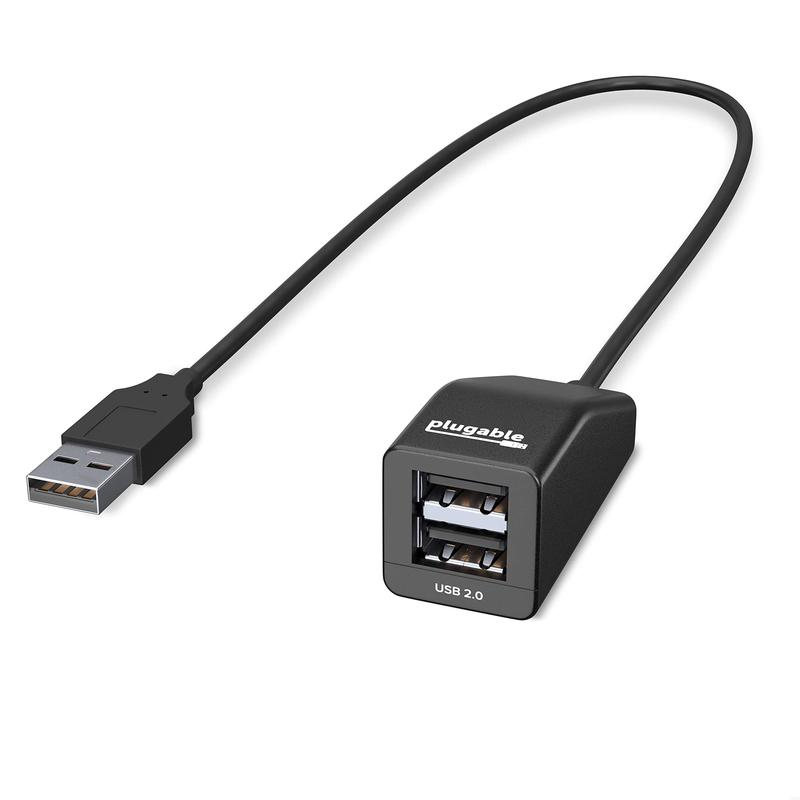USB: (404, 465, 516, 527), (410, 523, 510, 575)
